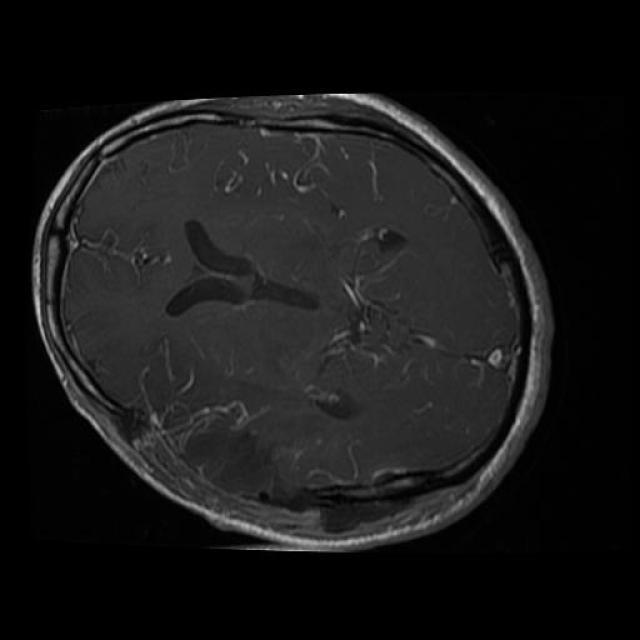Glioma: (110, 401, 332, 540)
